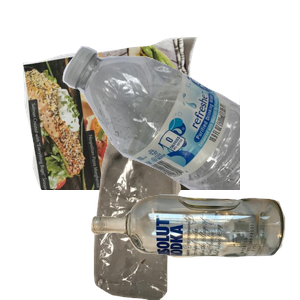glass: (88, 192, 300, 300)
paper: (20, 34, 221, 214)
plastic: (60, 44, 300, 224)
trash: (70, 120, 256, 300)
